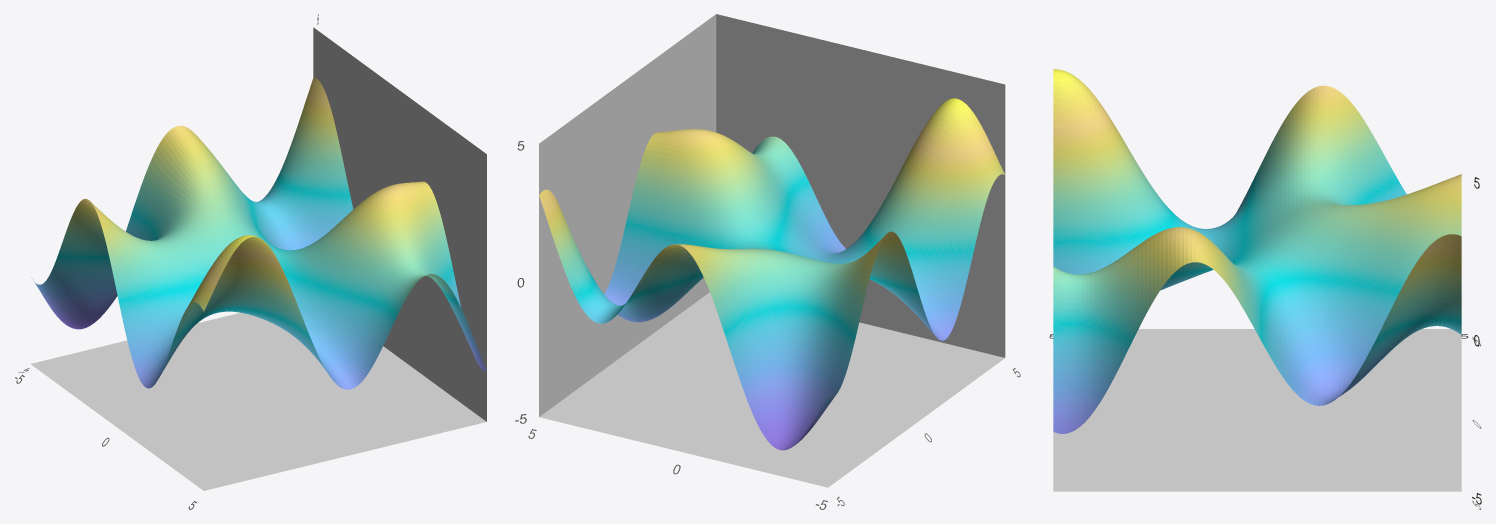
The model's file is surf.gltf.
3 renders of one model, left to right at view 1: azimuth 30°, elevation 25°; view 2: azimuth 150°, elevation 25°; view 3: azimuth 270°, elevation 25°, orthographic. The views are drawn at different scales.
Size of the model in its own units: 10.4 by 9.14 by 10.59.
